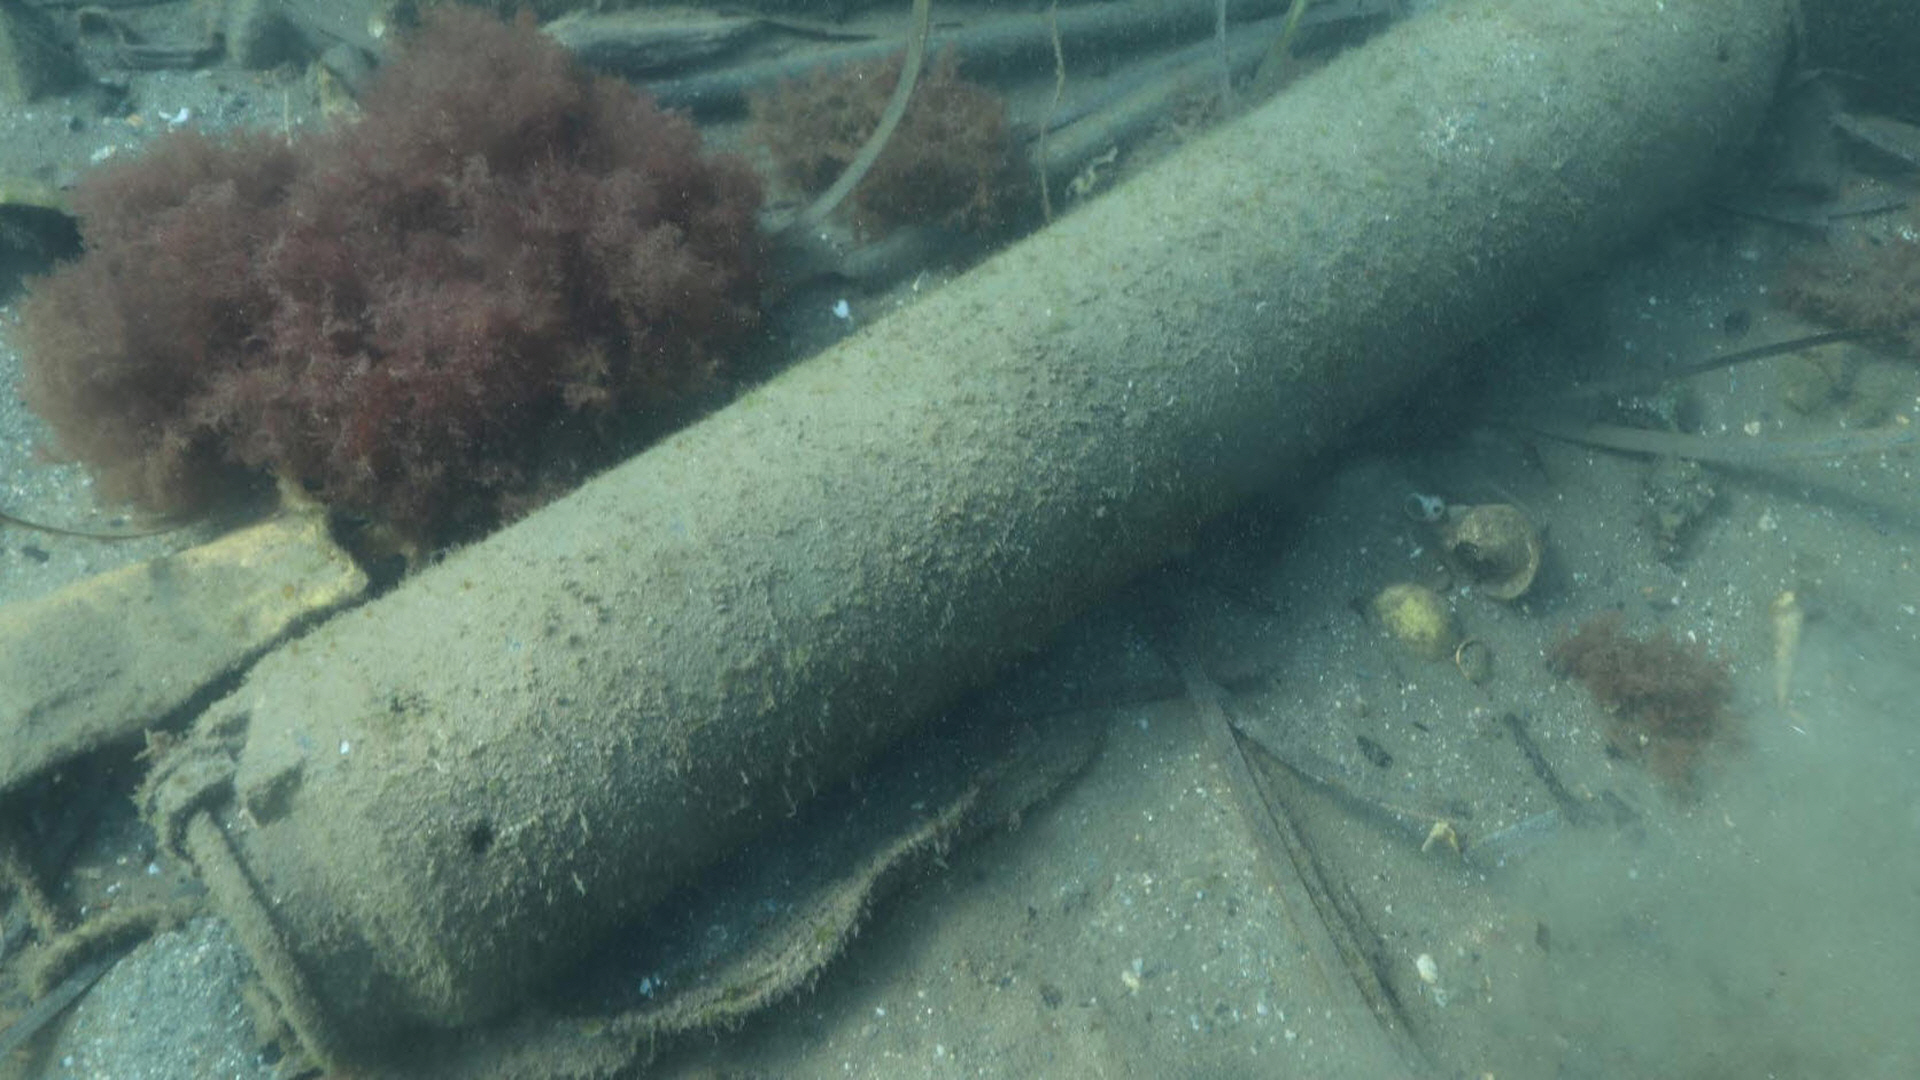eel fish trap: (146, 0, 1807, 1071)
